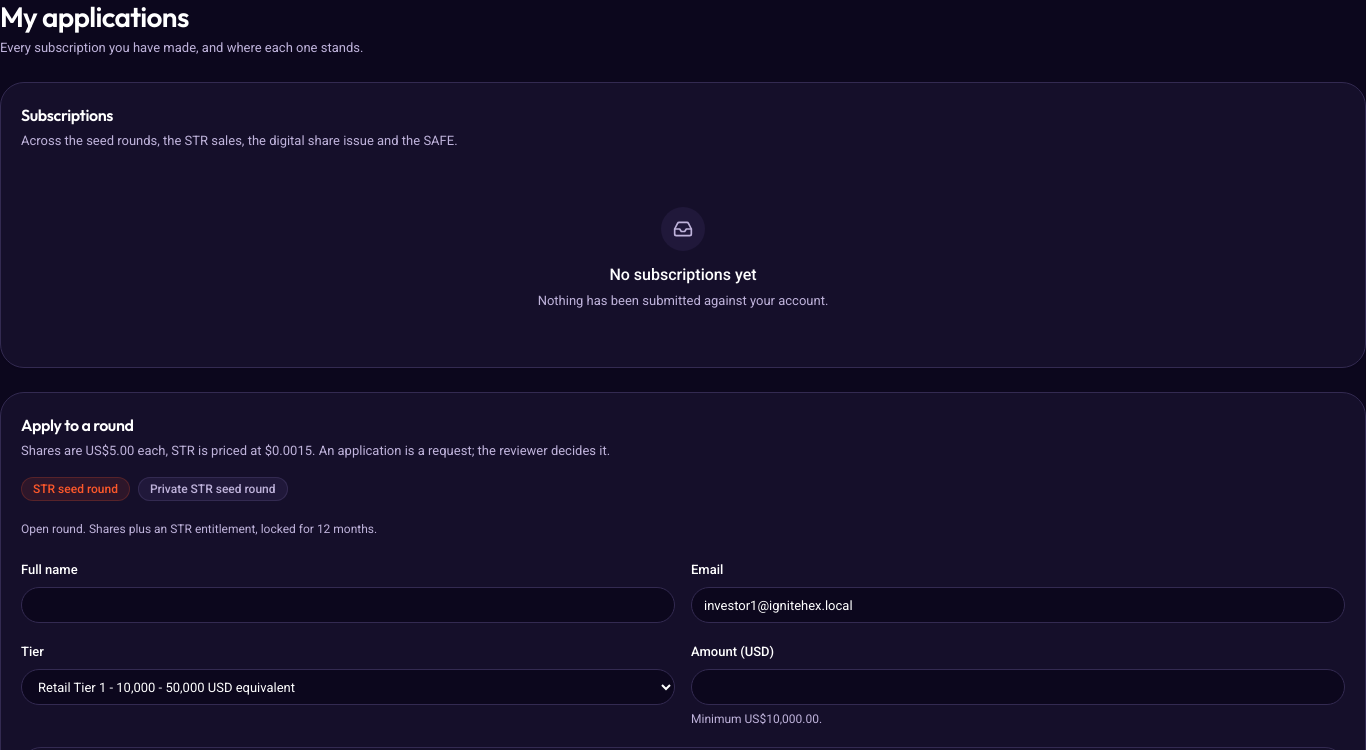
seed application form › asks for an address and a signature only on the private round
Expected: the field labelled "Street address" is not shown
What coordinates should you click on to do the following:
click the radio button labelled "Private STR seed round"
I would click on:
 (213, 489)
Its box is [138, 477, 288, 501].
(page scrolled)
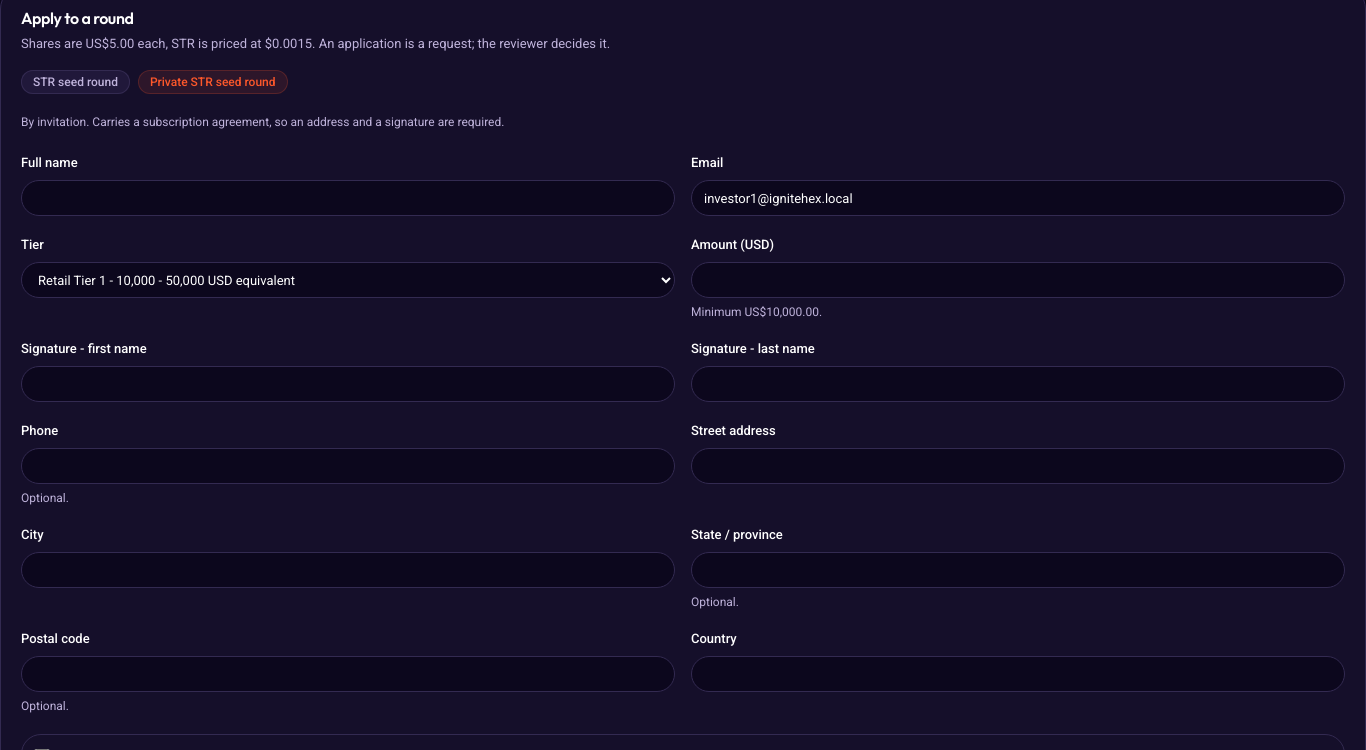
Expected: the field labelled "Street address" is shown, [691, 448, 1345, 484]
Expected: the field labelled "Signature - first name" is shown, [21, 366, 675, 402]
